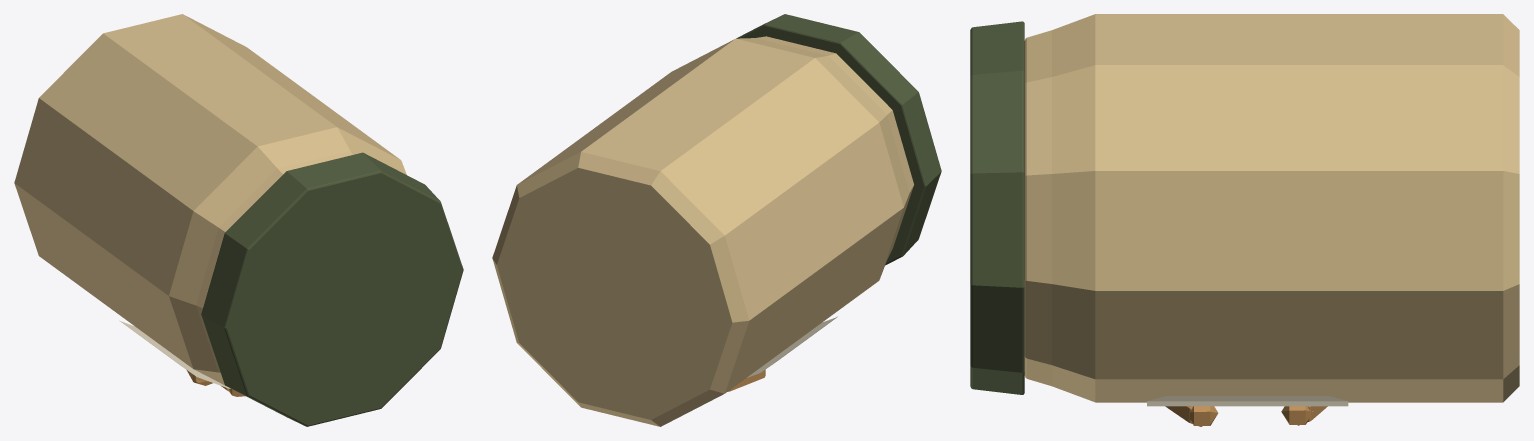
Rendered from cashew_butter.glb.
3 views of the same model, side by side, from view 1: azimuth 30°, elevation 25°; view 2: azimuth 150°, elevation 25°; view 3: azimuth 270°, elevation 25° (orthographic). The views are drawn at different scales.
Parts seen in each view (by area): view 1: cashew_butter; view 2: cashew_butter; view 3: cashew_butter.
Part boxes in pixels (left/top/right/bottom): cashew_butter: left=14, top=14, right=463, bottom=426; cashew_butter: left=492, top=14, right=941, bottom=426; cashew_butter: left=970, top=14, right=1519, bottom=426.
Bounding box in the file's own units: 0.072 × 0.0755 × 0.101.
